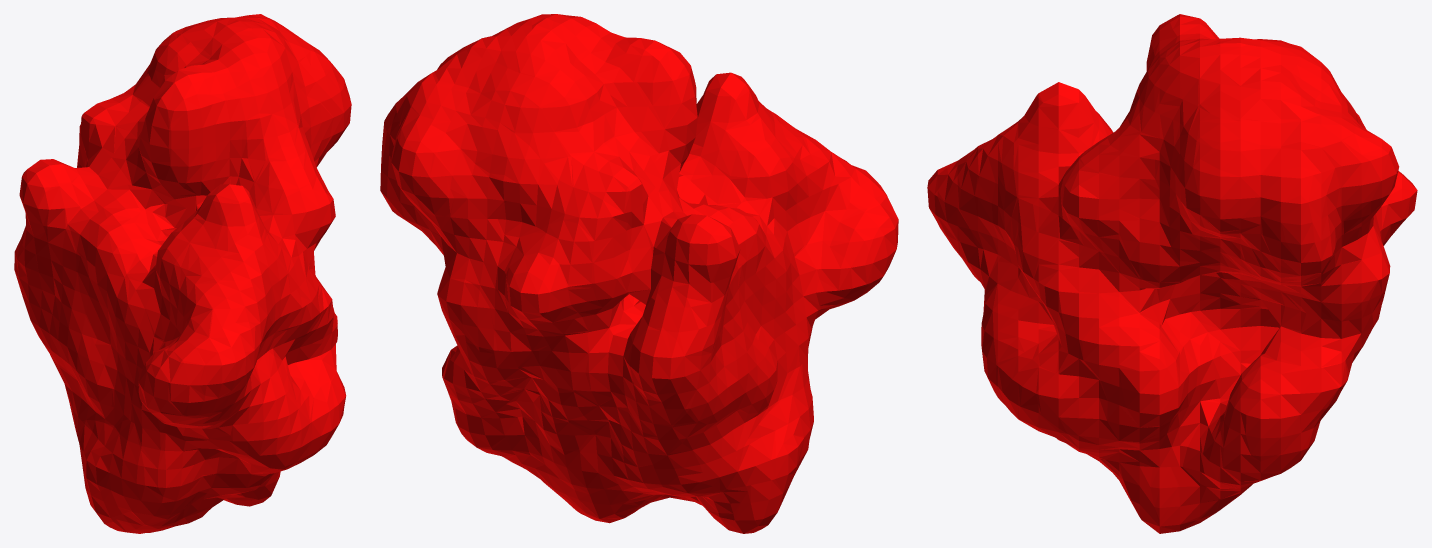
The model's file is yhaM_coarse.dae.
The picture shows the model from 3 angles, left to right: view 1: azimuth 30°, elevation 25°; view 2: azimuth 150°, elevation 25°; view 3: azimuth 270°, elevation 25°; orthographic projection. The views are drawn at different scales.
Visible parts, largest first — view 1: yhaM; view 2: yhaM; view 3: yhaM.
Part boxes in pixels (x1,y1,x2,y2): yhaM: (14,14,351,533); yhaM: (380,14,898,533); yhaM: (927,14,1417,533).
Size of the model in its own units: 52.51 by 71.79 by 63.81.
